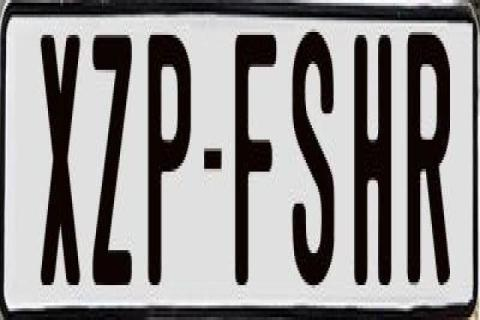F: (233, 32, 279, 288)
H: (352, 27, 392, 286)
P: (148, 26, 194, 282)
R: (406, 24, 456, 294)
S: (292, 32, 342, 288)
X: (38, 32, 84, 288)
Z: (90, 35, 136, 285)
